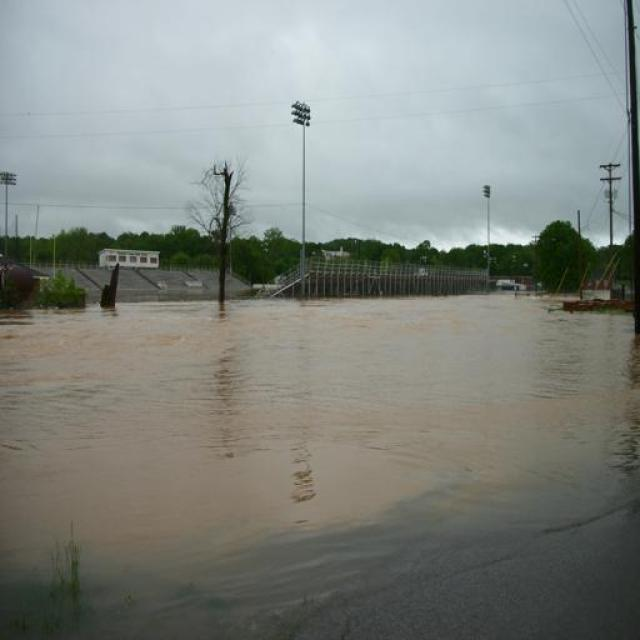puddle: (11, 300, 621, 482), (4, 457, 399, 568)
